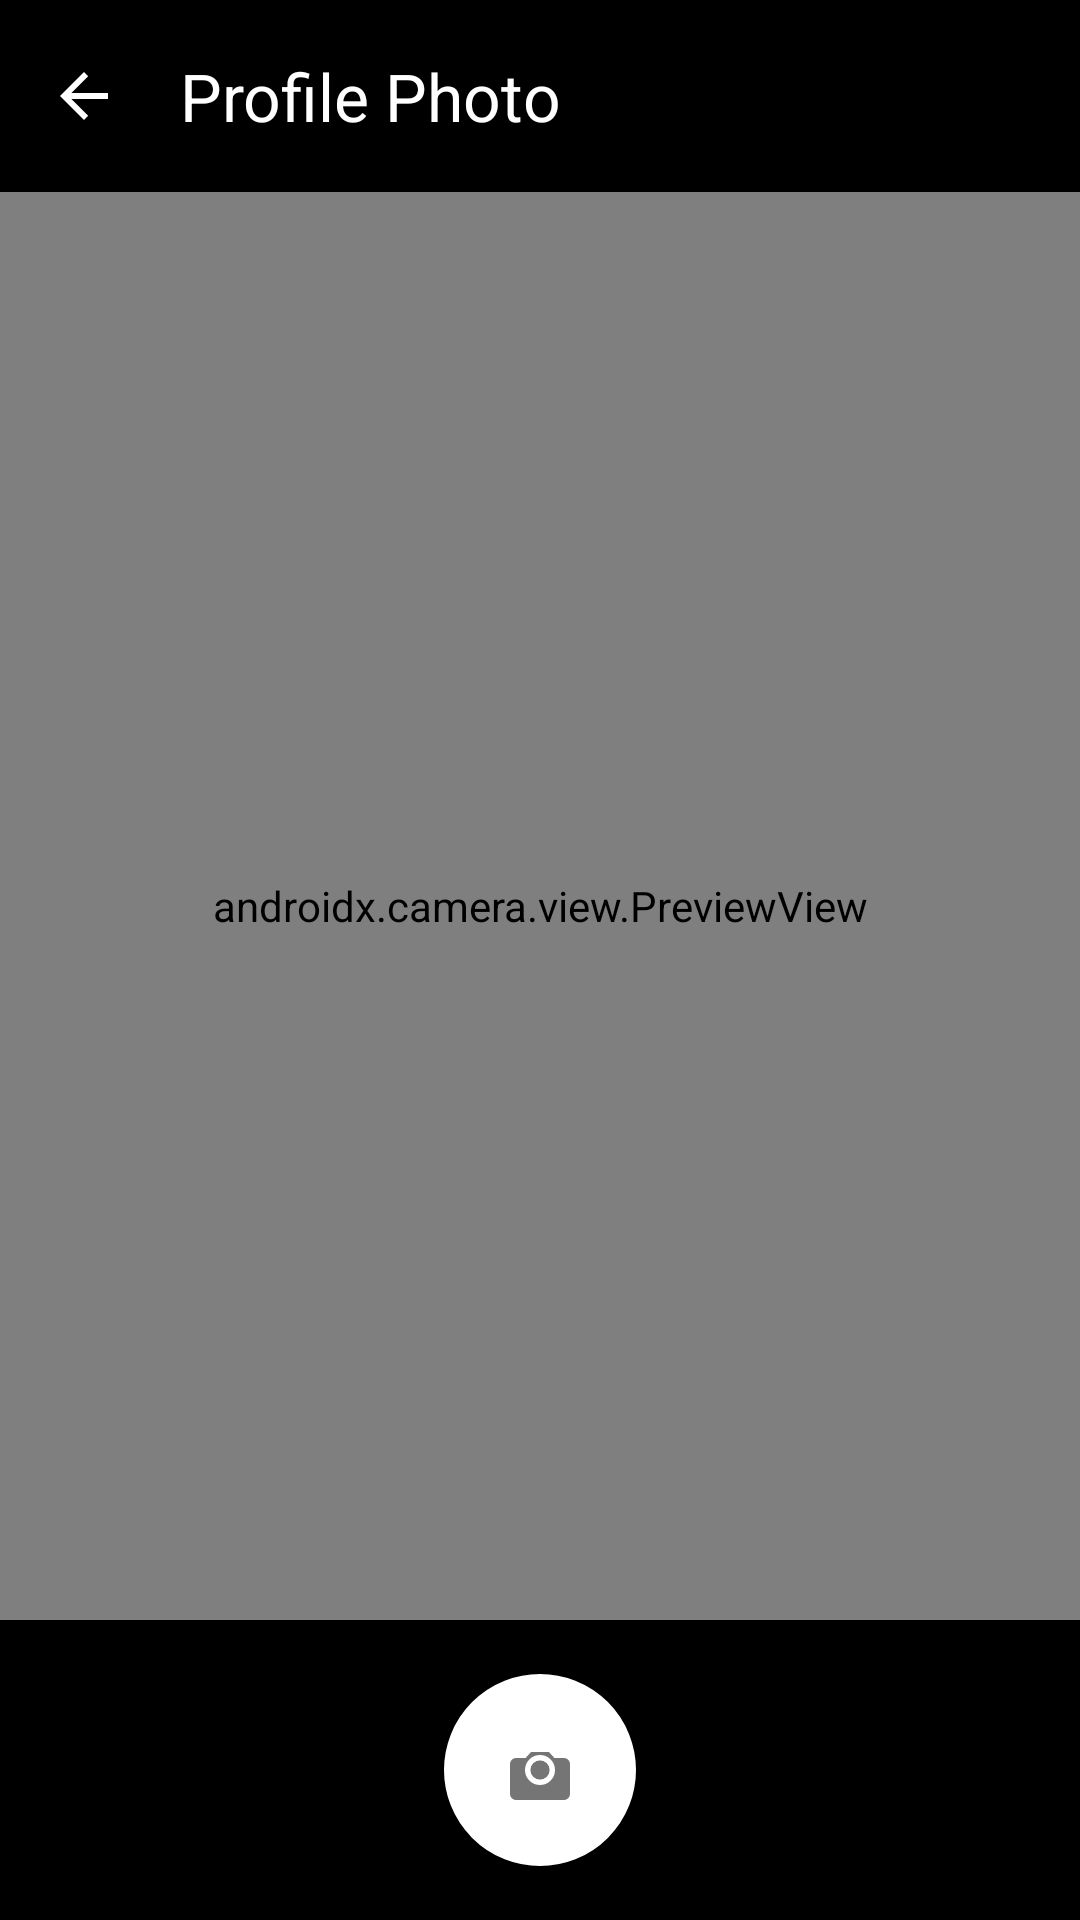

Screen size 1080×1920. Icon name, then its box in pixels as (x1, y1, x2, y2):
Capture photo: (444, 1674, 636, 1866)
